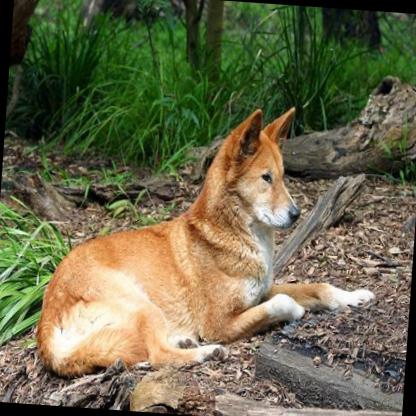dingo: (32, 87, 391, 396)
